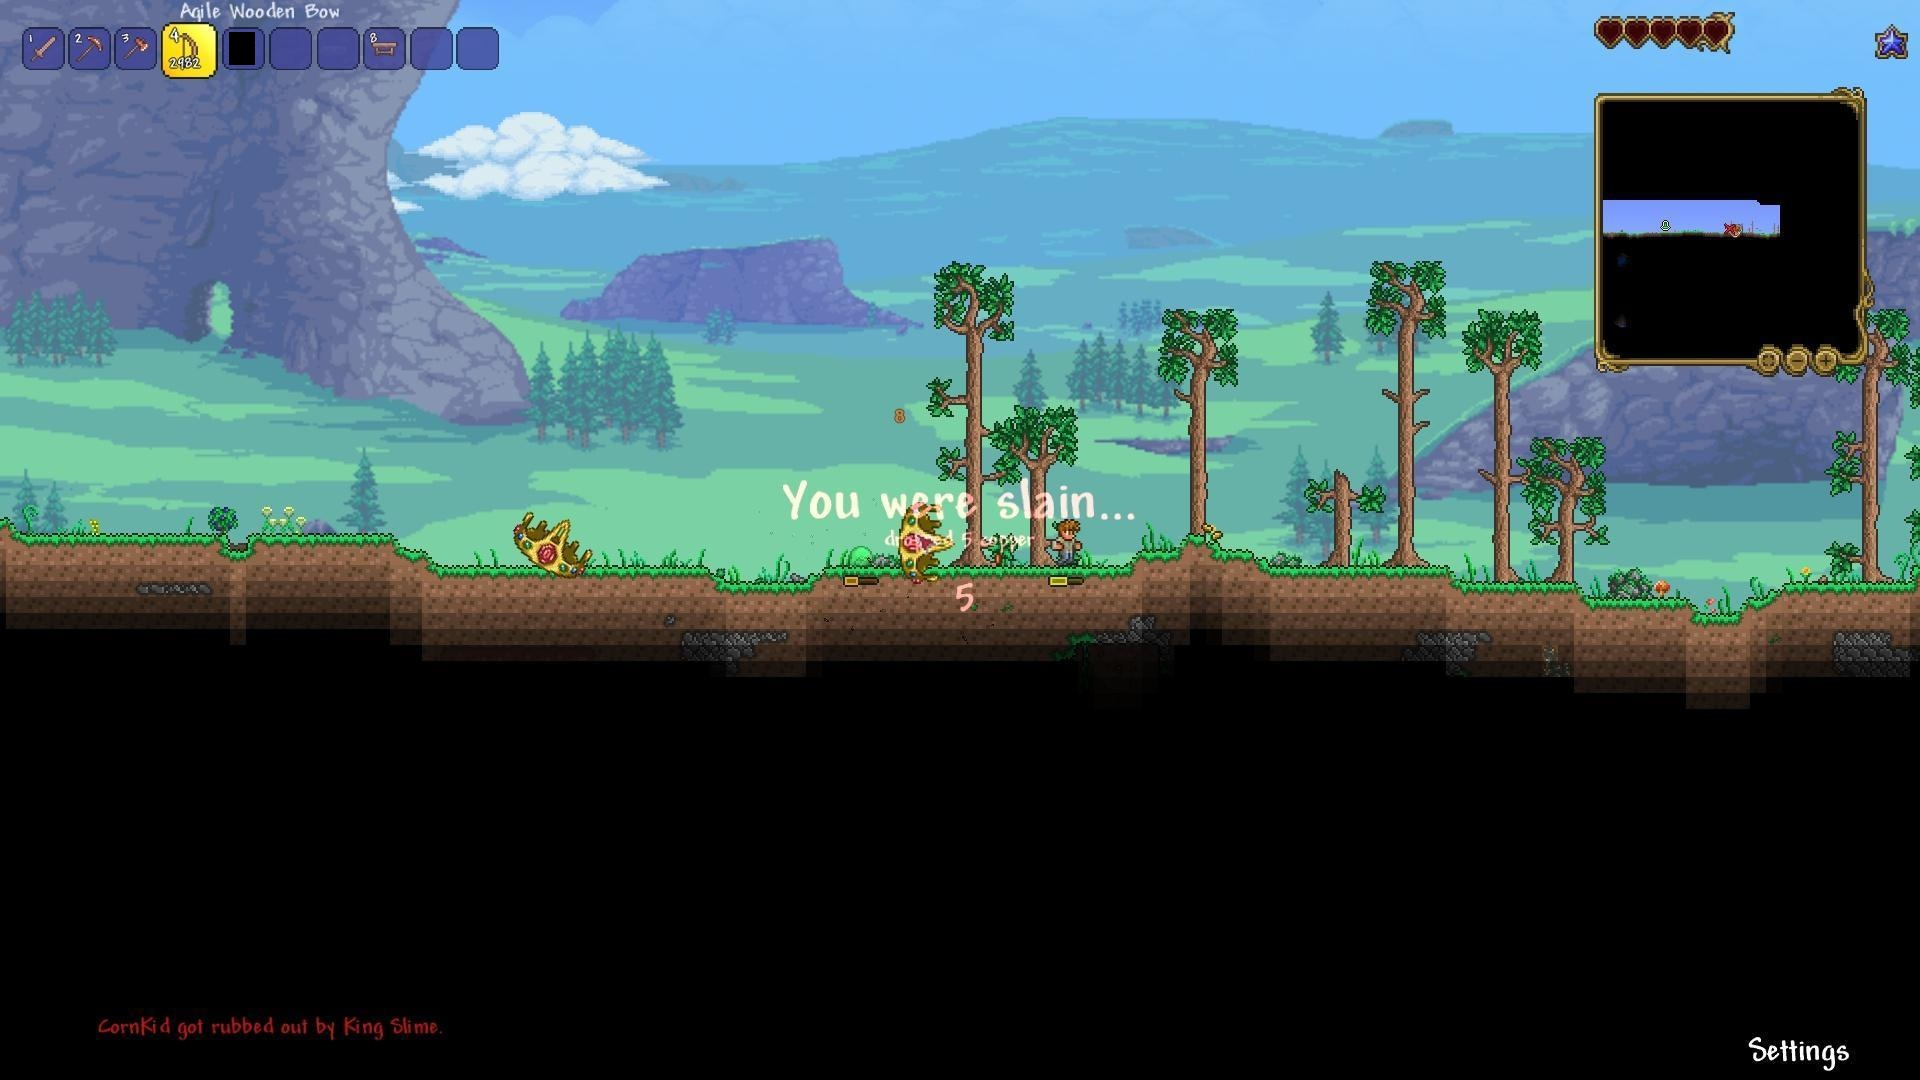slime: (849, 543, 874, 571)
workbench: (367, 37, 404, 62)
